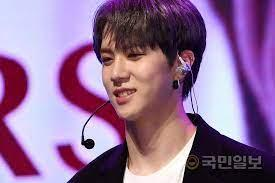earphone: (175, 56, 192, 75)
